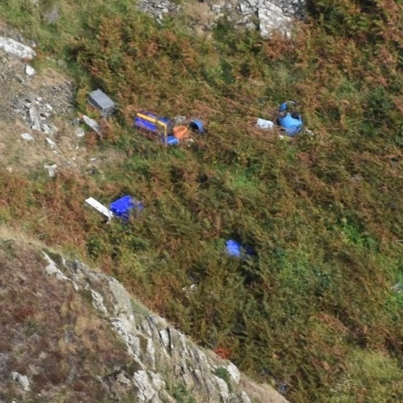scattered_barrel: (69, 75, 309, 268)
